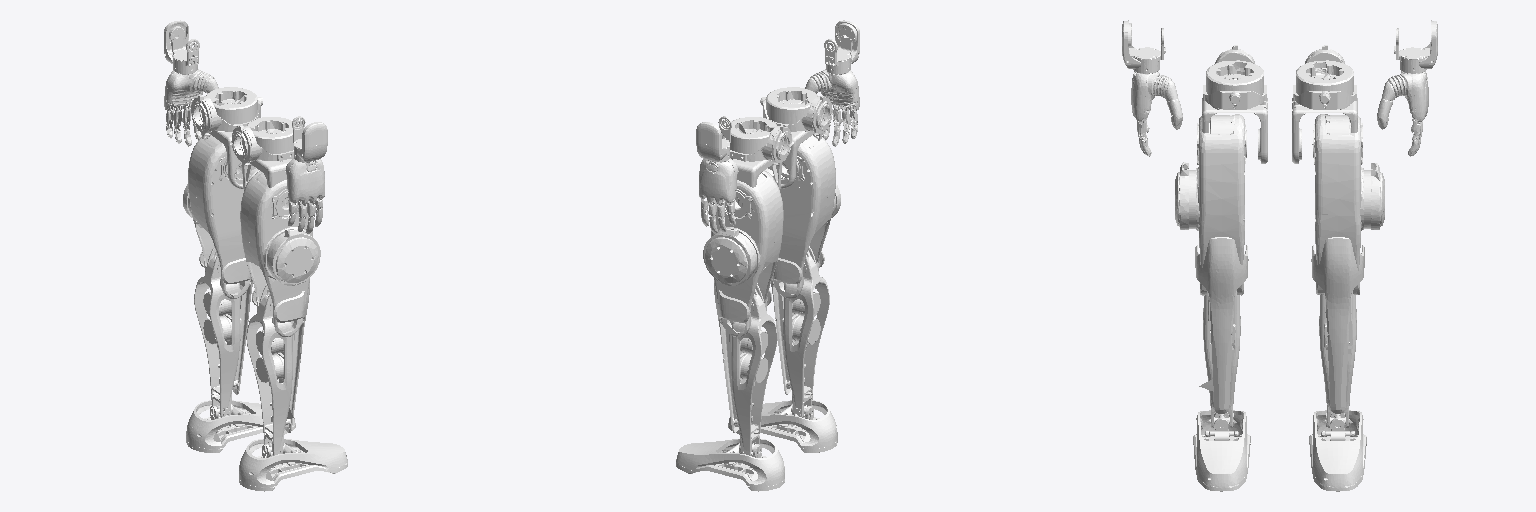
--- Render facts (derived) ---
Views: 3 orthographic renders of the robot side by side, from view 1: azimuth 30°, elevation 25°; view 2: azimuth 150°, elevation 25°; view 3: azimuth 270°, elevation 25°.
Model biped_v3_full with 27 links and 26 joints (26 revolute), rooted at torso, posed all joints at 0.
Visible links, largest first — view 1: leg_r3_link, leg_r4_link, leg_l4_link, leg_l3_link, leg_r6_link, zarm_l6_link, zarm_r6_link, leg_l6_link, leg_l1_link, leg_r1_link, leg_r2_link, leg_l2_link; view 2: leg_l3_link, leg_l4_link, leg_r4_link, leg_r3_link, zarm_r6_link, leg_l6_link, zarm_l6_link, leg_r6_link, leg_r1_link, leg_l1_link, leg_l2_link, leg_r2_link; view 3: leg_r3_link, leg_l3_link, leg_r4_link, leg_l4_link, leg_l6_link, leg_r6_link, zarm_r6_link, zarm_l6_link, leg_l1_link, leg_r1_link, leg_r2_link, leg_l2_link.
Boxes of the visible links, bbox=[...] form: leg_r3_link: bbox=[240, 171, 320, 336]; leg_r4_link: bbox=[246, 283, 309, 455]; leg_l4_link: bbox=[194, 246, 252, 417]; leg_l3_link: bbox=[183, 135, 250, 298]; leg_r6_link: bbox=[239, 439, 347, 491]; zarm_l6_link: bbox=[164, 20, 218, 146]; zarm_r6_link: bbox=[286, 116, 327, 233]; leg_l6_link: bbox=[186, 400, 295, 452]; leg_l1_link: bbox=[191, 87, 262, 133]; leg_r1_link: bbox=[232, 117, 297, 163]; leg_r2_link: bbox=[242, 159, 297, 216]; leg_l2_link: bbox=[201, 131, 242, 188]; leg_l3_link: bbox=[703, 171, 783, 336]; leg_l4_link: bbox=[714, 283, 777, 455]; leg_r4_link: bbox=[771, 246, 829, 417]; leg_r3_link: bbox=[773, 135, 840, 298]; zarm_r6_link: bbox=[805, 20, 859, 146]; leg_l6_link: bbox=[676, 439, 784, 491]; zarm_l6_link: bbox=[696, 116, 737, 233]; leg_r6_link: bbox=[728, 400, 837, 452]; leg_r1_link: bbox=[760, 87, 832, 133]; leg_l1_link: bbox=[725, 117, 791, 163]; leg_l2_link: bbox=[726, 159, 781, 213]; leg_r2_link: bbox=[781, 131, 822, 188]; leg_r3_link: bbox=[1175, 114, 1246, 295]; leg_l3_link: bbox=[1312, 114, 1384, 294]; leg_r4_link: bbox=[1195, 237, 1248, 427]; leg_l4_link: bbox=[1311, 237, 1364, 427]; leg_l6_link: bbox=[1309, 410, 1366, 491]; leg_r6_link: bbox=[1193, 410, 1250, 491]; zarm_r6_link: bbox=[1122, 20, 1182, 156]; zarm_l6_link: bbox=[1377, 20, 1437, 156]; leg_l1_link: bbox=[1293, 45, 1356, 109]; leg_r1_link: bbox=[1203, 45, 1266, 109]; leg_r2_link: bbox=[1202, 98, 1267, 163]; leg_l2_link: bbox=[1292, 98, 1357, 163].
Bounding box of the posed robot: 0.2541 × 0.6121 × 0.9176 m (x, y, z).
14 mesh visuals loaded from 27 distinct referenced files (14 binary STL); not drawn: 13 (reference not matched to a file when rendering).

URDF robot description (biped_v3_full):
<?xml version="1.0" ?>
<!-- =================================================================================== -->
<!-- |    This document was autogenerated by xacro from [local-path]/workspace/kuavo-ros-control/src/humanoid-control/humanoid_interface_drake/models/biped_gen4.0/urdf/biped_v3_full.xacro | -->
<!-- |    EDITING THIS FILE BY HAND IS NOT RECOMMENDED                                 | -->
<!-- =================================================================================== -->
<robot name="biped_v3_full" xmlns:drake="https://drake.mit.edu">
  <link name="torso">
    <inertial>
      <origin xyz="-0.00505 0.0014 0.18077" rpy="0 0 0" />
      <mass value="24.1969" />
      <inertia ixx="0.28214" ixy="3e-05" ixz="0.01114" iyy="0.20534" iyz="0.00044" izz="0.13735" />
    </inertial>
    <visual>
      <origin rpy="0 0 0" xyz="0 0 0"/>
      <geometry>
        <mesh filename="../../meshes/base_link.STL"/>
      </geometry>
      <material name="">
        <color rgba="0.43137 0.45098 0.43137 1"/>
      </material>
    </visual>
    <!-- <collision>
      <origin xyz="0 0 0" rpy="0 0 0" />
      <geometry>
        <mesh filename="../../meshes/base_link.STL" />
      </geometry>
    </collision> -->
  </link>
  <link name="leg_l1_link">
    <inertial>
      <origin xyz="-0.00624961 -5.6e-06 -0.00874166" rpy="0 0 0" />
      <mass value="1.79206533" />
      <inertia ixx="0.00211603" ixy="7.6e-07" ixz="0.000107" iyy="0.00302948" iyz="4.73e-06" izz="0.00399385" />
    </inertial>
    <visual>
      <origin xyz="0 0 0" rpy="0 0 0" />
      <geometry>
        <mesh filename="../../meshes/l_leg_roll.STL" />
      </geometry>
      <material name="">
        <color rgba="1 1 1 1" />
      </material>
    </visual>
  </link>
  <joint name="leg_l1_joint" type="revolute">
    <origin xyz="-0.0025 0.087 -0.066" rpy="0 0 0" />
    <parent link="torso" />
    <child link="leg_l1_link" />
    <axis xyz="1 0 0" />
    <limit lower="-0.314159265358979" upper="0.663225115757845" effort="180.0" velocity="23.55" />
  </joint>
  <transmission type="SimpleTransmission">
    <joint name="leg_l1_joint" />
    <actuator name="leg_l1_joint_motor" />
  </transmission>
  <link name="leg_l2_link">
    <inertial>
      <origin xyz="4.471e-05 0.04985881 -0.11682314" rpy="0 0 0" />
      <mass value="1.67630577" />
      <inertia ixx="0.00548763" ixy="-2.73e-06" ixz="-9.2e-07" iyy="0.0041542" iyz="0.00050833" izz="0.00426092" />
    </inertial>
    <visual>
      <origin xyz="0 0 0" rpy="0 0 0" />
      <geometry>
        <mesh filename="../../meshes/l_leg_yaw.STL" />
      </geometry>
      <material name="">
        <color rgba="1 1 1 1" />
      </material>
    </visual>
  </link>
  <joint name="leg_l2_joint" type="revolute">
    <origin xyz="0 0 0" rpy="0 0 0" />
    <parent link="leg_l1_link" />
    <child link="leg_l2_link" />
    <axis xyz="0 0 1" />
    <limit lower="-1.0471975511966" upper="0.523598775598299" effort="100.0" velocity="41.3433333333333" />
  </joint>
  <transmission type="SimpleTransmission">
    <joint name="leg_l2_joint" />
    <actuator name="leg_l2_joint_motor" />
  </transmission>
  <link name="leg_l3_link">
    <inertial>
      <origin xyz="-0.00238348 -0.02309435 -0.06304956" rpy="0 0 0" />
      <mass value="2.46847" />
      <inertia ixx="0.02435272" ixy="4.518e-05" ixz="0.00123822" iyy="0.02479772" iyz="0.00261624" izz="0.00478829" />
    </inertial>
    <visual>
      <origin xyz="0 0 0" rpy="0 0 0" />
      <geometry>
        <mesh filename="../../meshes/l_leg_pitch.STL" />
      </geometry>
      <material name="">
        <color rgba="1 1 1 1" />
      </material>
    </visual>
  </link>
  <joint name="leg_l3_joint" type="revolute">
    <origin xyz="0 0.02545000000000 -0.1287" rpy="0 0 0" />
    <parent link="leg_l2_link" />
    <child link="leg_l3_link" />
    <axis xyz="0 1 0" />
    <limit lower="-1.83259571459405" upper="1.0471975511966" effort="100.0" velocity="41.3433333333333" />
  </joint>
  <transmission type="SimpleTransmission">
    <joint name="leg_l3_joint" />
    <actuator name="leg_l3_joint_motor" />
  </transmission>
  <link name="leg_l4_link">
    <inertial>
      <origin xyz="0.00304104 -4.1e-05 -0.12213928" rpy="0 0 0" />
      <mass value="1.86452506" />
      <inertia ixx="0.01537791" ixy="7.85e-06" ixz="-0.00010781" iyy="0.01559985" iyz="-0.00015323" izz="0.00123021" />
    </inertial>
    <visual>
      <origin xyz="0 0 0" rpy="0 0 0" />
      <geometry>
        <mesh filename="../../meshes/l_knee.STL" />
      </geometry>
      <material name="">
        <color rgba="1 1 1 1" />
      </material>
    </visual>
  </link>
  <joint name="leg_l4_joint" type="revolute">
    <origin xyz="-0.010390161952608 0 -0.249783995753446" rpy="0 0 0" />
    <parent link="leg_l3_link" />
    <child link="leg_l4_link" />
    <axis xyz="0 1 0" />
    <limit lower="0.0" upper="2.18166156499291" effort="100.0" velocity="41.3433333333333" />
  </joint>
  <transmission type="SimpleTransmission">
    <joint name="leg_l4_joint" />
    <actuator name="leg_l4_joint_motor" />
  </transmission>
  <link name="leg_l5_link">
    <inertial>
      <origin xyz="0.0 0.0 0.0" rpy="0 0 0" />
      <mass value="0.06923929" />
      <inertia ixx="6.66e-06" ixy="0.0" ixz="0.0" iyy="6.66e-06" iyz="0.0" izz="1.172e-05" />
    </inertial>
    <visual>
      <origin xyz="0 0 0" rpy="0 0 0" />
      <geometry>
        <mesh filename="../../meshes/l_foot_pitch.STL" />
      </geometry>
      <material name="">
        <color rgba="1 1 1 1" />
      </material>
    </visual>
  </link>
  <joint name="leg_l5_joint" type="revolute">
    <origin xyz="0 0 -0.346000000000004" rpy="0 0 0" />
    <parent link="leg_l4_link" />
    <child link="leg_l5_link" />
    <axis xyz="0 1 0" />
    <limit lower="-0.610865238198015" upper="0.523598775598299" effort="36.0" velocity="23.0266666666667" />
  </joint>
  <transmission type="SimpleTransmission">
    <joint name="leg_l5_joint" />
    <actuator name="leg_l5_joint_motor" />
  </transmission>
  <link name="leg_l6_link">
    <inertial>
      <origin xyz="-0.00987056 -7.58e-06 -0.03365514" rpy="0 0 0" />
      <mass value="0.58358325" />
      <inertia ixx="0.0006342" ixy="1.4e-07" ixz="0.00031564" iyy="0.00227317" iyz="-2e-08" izz="0.00239382" />
    </inertial>
    <visual>
      <origin xyz="0 0 0" rpy="0 0 0" />
      <geometry>
        <mesh filename="../../meshes/l_foot_roll.STL" />
      </geometry>
      <material name="">
        <color rgba="1 1 1 1" />
      </material>
    </visual>
  </link>
  <joint name="leg_l6_joint" type="revolute">
    <origin xyz="0 0 0" rpy="0 0 0" />
    <parent link="leg_l5_link" />
    <child link="leg_l6_link" />
    <axis xyz="1 0 0" />
    <limit lower="-0.349065850398866" upper="0.349065850398866" effort="36.0" velocity="23.0266666666667" />
  </joint>
  <transmission type="SimpleTransmission">
    <joint name="leg_l6_joint" />
    <actuator name="leg_l6_joint_motor" />
  </transmission>
  <!-- sssssssss -->
  <frame link="leg_l6_link" name="l_foot_sole" xyz="0.0205085 -0.0 -0.0465"/>
  <frame link="leg_l6_link" name="l_foot_toe" xyz="0.142507 -0.0 -0.0465"/>
  <frame link="leg_l6_link" name="l_foot_heel" xyz="-0.10149 -0.0 -0.0465"/>
  <link name="leg_r1_link">
    <inertial>
      <origin xyz="-0.00624961 5.65e-06 -0.00874165" rpy="0 0 0" />
      <mass value="1.79206572" />
      <inertia ixx="0.00211603" ixy="-7.6e-07" ixz="0.000107" iyy="0.00302948" iyz="-4.73e-06" izz="0.00399385" />
    </inertial>
    <visual>
      <origin xyz="0 0 0" rpy="0 0 0" />
      <geometry>
        <mesh filename="../../meshes/r_leg_roll.STL" />
      </geometry>
      <material name="">
        <color rgba="1 1 1 1" />
      </material>
    </visual>
  </link>
  <joint name="leg_r1_joint" type="revolute">
    <origin xyz="-0.0025 -0.087 -0.066" rpy="0 0 0" />
    <parent link="torso" />
    <child link="leg_r1_link" />
    <axis xyz="1 0 0" />
    <limit lower="-0.663225115757845" upper="0.314159265358979" effort="180.0" velocity="23.55" />
  </joint>
  <transmission type="SimpleTransmission">
    <joint name="leg_r1_joint" />
    <actuator name="leg_r1_joint_motor" />
  </transmission>
  <link name="leg_r2_link">
    <inertial>
      <origin xyz="4.471e-05 -0.04985878 -0.11682313" rpy="0 0 0" />
      <mass value="1.67630636" />
      <inertia ixx="0.00548764" ixy="2.73e-06" ixz="-9.2e-07" iyy="0.00415421" iyz="-0.00050832" izz="0.00426093" />
    </inertial>
    <visual>
      <origin xyz="0 0 0" rpy="0 0 0" />
      <geometry>
        <mesh filename="../../meshes/r_leg_yaw.STL" />
      </geometry>
      <material name="">
        <color rgba="1 1 1 1" />
      </material>
    </visual>
  </link>
  <joint name="leg_r2_joint" type="revolute">
    <origin xyz="0 0 0" rpy="0 0 0" />
    <parent link="leg_r1_link" />
    <child link="leg_r2_link" />
    <axis xyz="0 0 1" />
    <limit lower="-0.523598775598299" upper="1.0471975511966" effort="100.0" velocity="41.3433333333333" />
  </joint>
  <transmission type="SimpleTransmission">
    <joint name="leg_r2_joint" />
    <actuator name="leg_r2_joint_motor" />
  </transmission>
  <link name="leg_r3_link">
    <inertial>
      <origin xyz="-0.00238153 0.02309009 -0.06305853" rpy="0 0 0" />
      <mass value="2.46916674" />
      <inertia ixx="0.02435155" ixy="-4.518e-05" ixz="0.00123747" iyy="0.02479853" iyz="-0.00261573" izz="0.0047908" />
    </inertial>
    <visual>
      <origin xyz="0 0 0" rpy="0 0 0" />
      <geometry>
        <mesh filename="../../meshes/r_leg_pitch.STL" />
      </geometry>
      <material name="">
        <color rgba="1 1 1 1" />
      </material>
    </visual>
  </link>
  <joint name="leg_r3_joint" type="revolute">
    <origin xyz="0 -0.02545000000000 -0.1287" rpy="0 0 0" />
    <parent link="leg_r2_link" />
    <child link="leg_r3_link" />
    <axis xyz="0 1 0" />
    <limit lower="-1.83259571459405" upper="1.0471975511966" effort="100.0" velocity="41.3433333333333" />
  </joint>
  <transmission type="SimpleTransmission">
    <joint name="leg_r3_joint" />
    <actuator name="leg_r3_joint_motor" />
  </transmission>
  <link name="leg_r4_link">
    <inertial>
      <origin xyz="0.00304109 4.102e-05 -0.12213983" rpy="0 0 0" />
      <mass value="1.86454133" />
      <inertia ixx="0.01537809" ixy="-7.85e-06" ixz="-0.00010779" iyy="0.01560001" iyz="0.00015322" izz="0.00123022" />
    </inertial>
    <visual>
      <origin xyz="0 0 0" rpy="0 0 0" />
      <geometry>
        <mesh filename="../../meshes/r_knee.STL" />
      </geometry>
      <material name="">
        <color rgba="1 1 1 1" />
      </material>
    </visual>
  </link>
  <joint name="leg_r4_joint" type="revolute">
    <origin xyz="-0.0103901619526017 0 -0.249783995753447" rpy="0 0 0" />
    <parent link="leg_r3_link" />
    <child link="leg_r4_link" />
    <axis xyz="0 1 0" />
    <limit lower="0.0" upper="2.18166156499291" effort="100.0" velocity="41.3433333333333" />
  </joint>
  <transmission type="SimpleTransmission">
    <joint name="leg_r4_joint" />
    <actuator name="leg_r4_joint_motor" />
  </transmission>
  <link name="leg_r5_link">
    <inertial>
      <origin xyz="0.0 0.0 0.0" rpy="0 0 0" />
      <mass value="0.06923929" />
      <inertia ixx="6.66e-06" ixy="0.0" ixz="0.0" iyy="6.66e-06" iyz="0.0" izz="1.172e-05" />
    </inertial>
    <visual>
      <origin xyz="0 0 0" rpy="0 0 0" />
      <geometry>
        <mesh filename="../../meshes/r_foot_pitch.STL" />
      </geometry>
      <material name="">
        <color rgba="1 1 1 1" />
      </material>
    </visual>
  </link>
  <joint name="leg_r5_joint" type="revolute">
    <origin xyz="0 0 -0.346000000000011" rpy="0 0 0" />
    <parent link="leg_r4_link" />
    <child link="leg_r5_link" />
    <axis xyz="0 1 0" />
    <limit lower="-0.523598775598299" upper="0.523598775598299" effort="36.0" velocity="23.0266666666667" />
  </joint>
  <transmission type="SimpleTransmission">
    <joint name="leg_r5_joint" />
    <actuator name="leg_r5_joint_motor" />
  </transmission>
  <link name="leg_r6_link">
    <inertial>
      <origin xyz="-0.00987049 7.65e-06 -0.03365512" rpy="0 0 0" />
      <mass value="0.58358273" />
      <inertia ixx="0.0006342" ixy="-1.4e-07" ixz="0.00031564" iyy="0.00227317" iyz="2e-08" izz="0.00239382" />
    </inertial>
    <visual>
      <origin xyz="0 0 0" rpy="0 0 0" />
      <geometry>
        <mesh filename="../../meshes/r_foot_roll.STL" />
      </geometry>
      <material name="">
        <color rgba="1 1 1 1" />
      </material>
    </visual>
  </link>
  <joint name="leg_r6_joint" type="revolute">
    <origin xyz="0 0 0" rpy="0 0 0" />
    <parent link="leg_r5_link" />
    <child link="leg_r6_link" />
    <axis xyz="1 0 0" />
    <limit lower="-0.349065850398866" upper="0.349065850398866" effort="36.0" velocity="23.0266666666667" />
  </joint>
  <transmission type="SimpleTransmission">
    <joint name="leg_r6_joint" />
    <actuator name="leg_r6_joint_motor" />
  </transmission>
  <!-- sssssssss -->
  <frame link="leg_r6_link" name="r_foot_sole" xyz="0.0205085 -0.0 -0.0465"/>
  <frame link="leg_r6_link" name="r_foot_toe" xyz="0.142507 -0.0 -0.0465"/>
  <frame link="leg_r6_link" name="r_foot_heel" xyz="-0.10149 -0.0 -0.0465"/>
  <!-- =========================================================== Arms ================================================================= -->
  <link name="zarm_l1_link">
    <inertial>
      <origin xyz="0.008 -0.00158 0.0036" rpy="0 0 0" />
      <mass value="1.15" />
      <inertia ixx="0.0006" ixy="5e-05" ixz="1e-05" iyy="0.00048" iyz="-6e-05" izz="0.0007" />
    </inertial>
    <visual>
      <origin xyz="0 0 0" rpy="0 0 0" />
      <geometry>
        <mesh filename="../../meshes/l_arm_pitch.STL" />
      </geometry>
      <material name="">
        <color rgba="1 1 1 1" />
      </material>
    </visual>
  </link>
  <joint name="zarm_l1_joint" type="revolute">
    <origin xyz="-0.0175 0.25886 0.3245" rpy="0 0 0" />
    <parent link="torso" />
    <child link="zarm_l1_link" />
    <axis xyz="0 1 0" />
    <limit lower="-2.61799387799149" upper="0.523598775598299" effort="100.0" velocity="41.3433333333333" />
  </joint>
  <transmission type="SimpleTransmission">
    <joint name="zarm_l1_joint" />
    <actuator name="zarm_l1_joint_motor" />
  </transmission>
  <link name="zarm_l2_link">
    <inertial>
      <origin xyz="0.00144 0.02159 -0.0202" rpy="0 0 0" />
      <mass value="0.226" />
      <inertia ixx="0.0003" ixy="3e-05" ixz="1e-05" iyy="0.00061" iyz="5e-05" izz="0.00057" />
    </inertial>
    <visual>
      <origin xyz="0 0 0" rpy="0 0 0" />
      <geometry>
        <mesh filename="../../meshes/l_arm_roll.STL" />
      </geometry>
      <material name="">
        <color rgba="1 1 1 1" />
      </material>
    </visual>
  </link>
  <joint name="zarm_l2_joint" type="revolute">
    <origin xyz="0 0 0" rpy="0 0 0" />
    <parent link="zarm_l1_link" />
    <child link="zarm_l2_link" />
    <axis xyz="1 0 0" />
    <limit lower="-0.349065850398866" upper="2.0943951023932" effort="50.0" velocity="19.154" />
  </joint>
  <transmission type="SimpleTransmission">
    <joint name="zarm_l2_joint" />
    <actuator name="zarm_l2_joint_motor" />
  </transmission>
  <link name="zarm_l3_link">
    <inertial>
      <origin xyz="-0.00157 -3e-05 -0.13318" rpy="0 0 0" />
      <mass value="1.166" />
      <inertia ixx="0.00245" ixy="-1e-05" ixz="-1e-05" iyy="0.0022" iyz="0.0" izz="0.00112" />
    </inertial>
    <visual>
      <origin xyz="0 0 0" rpy="0 0 0" />
      <geometry>
        <mesh filename="../../meshes/l_arm_yaw.STL" />
      </geometry>
      <material name="">
        <color rgba="1 1 1 1" />
      </material>
    </visual>
  </link>
  <joint name="zarm_l3_joint" type="revolute">
    <origin xyz="0 0 0" rpy="0 0 0" />
    <parent link="zarm_l2_link" />
    <child link="zarm_l3_link" />
    <axis xyz="0 0 1" />
    <limit lower="-1.5707963267949" upper="1.5707963267949" effort="20.0" velocity="18.84" />
  </joint>
  <transmission type="SimpleTransmission">
    <joint name="zarm_l3_joint" />
    <actuator name="zarm_l3_joint_motor" />
  </transmission>
  <link name="zarm_l4_link">
    <inertial>
      <origin xyz="-4e-05 0.0098 -0.05283" rpy="0 0 0" />
      <mass value="0.575" />
      <inertia ixx="0.00098" ixy="0.0" ixz="0.0" iyy="0.00062" iyz="-0.00016" izz="0.00088" />
    </inertial>
    <visual>
      <origin xyz="0 0 0" rpy="0 0 0" />
      <geometry>
        <mesh filename="../../meshes/l_forearm.STL" />
      </geometry>
      <material name="">
        <color rgba="1 1 1 1" />
      </material>
    </visual>
  </link>
  <joint name="zarm_l4_joint" type="revolute">
    <origin xyz="0 0 -0.1646" rpy="0 0 0" />
    <parent link="zarm_l3_link" />
    <child link="zarm_l4_link" />
    <axis xyz="0 1 0" />
    <limit lower="-1.5707963267949" upper="0.0" effort="20.0" velocity="18.84" />
  </joint>
  <transmission type="SimpleTransmission">
    <joint name="zarm_l4_joint" />
    <actuator name="zarm_l4_joint_motor" />
  </transmission>
  <link name="zarm_l5_link">
    <inertial>
      <origin xyz="-0.00011 0.00421 -0.11168" rpy="0 0 0" />
      <mass value="0.46" />
      <inertia ixx="0.00077" ixy="0.0" ixz="0.0" iyy="0.0005" iyz="-4e-05" izz="0.00063" />
    </inertial>
    <visual>
      <origin xyz="0 0 0" rpy="0 0 0" />
      <geometry>
        <mesh filename="../../meshes/l_hand_yaw.STL" />
      </geometry>
      <material name="">
        <color rgba="1 1 1 1" />
      </material>
    </visual>
  </link>
  <joint name="zarm_l5_joint" type="revolute">
    <origin xyz="0 0 0" rpy="0 0 0" />
    <parent link="zarm_l4_link" />
    <child link="zarm_l5_link" />
    <axis xyz="0 0 1" />
    <limit lower="-1.5707963267949" upper="1.5707963267949" effort="6.0" velocity="21.666" />
  </joint>
  <transmission type="SimpleTransmission">
    <joint name="zarm_l5_joint" />
    <actuator name="zarm_l5_joint_motor" />
  </transmission>
  <link name="zarm_l6_link">
    <inertial>
      <origin xyz="0.00253 0.00382 -0.05356" rpy="0 0 0" />
      <mass value="0.35" />
      <inertia ixx="0.00023" ixy="0.0" ixz="0.0" iyy="0.00024" iyz="-4e-05" izz="0.00019" />
    </inertial>
    <visual>
      <origin xyz="0 0 0" rpy="0 0 0" />
      <geometry>
        <mesh filename="../../meshes/l_hand_pitch.STL" />
      </geometry>
      <material name="">
        <color rgba="1 1 1 1" />
      </material>
    </visual>
  </link>
  <joint name="zarm_l6_joint" type="revolute">
    <origin xyz="0 0 -0.132050000125748" rpy="0 0 0" />
    <parent link="zarm_l5_link" />
    <child link="zarm_l6_link" />
    <axis xyz="0 1 0" />
    <limit lower="-1.5707963267949" upper="1.5707963267949" effort="6.0" velocity="21.666" />
  </joint>
  <transmission type="SimpleTransmission">
    <joint name="zarm_l6_joint" />
    <actuator name="zarm_l6_joint_motor" />
  </transmission>
  <link name="zarm_l7_link">
    <inertial>
      <origin xyz="0.00267 0.00748 -0.07162" rpy="0 0 0" />
      <mass value="0.81" />
      <inertia ixx="0.00117" ixy="2e-05" ixz="0.0" iyy="0.00128" iyz="-2e-05" izz="0.00036" />
    </inertial>
    <visual>
      <origin xyz="0 0 0" rpy="0 0 0" />
      <geometry>
        <mesh filename="../../meshes/l_hand_roll.STL" />
      </geometry>
      <material name="">
        <color rgba="1 1 1 1" />
      </material>
    </visual>
  </link>
  <joint name="zarm_l7_joint" type="revolute">
    <origin xyz="0 0 -0.0589999999999999" rpy="0 0 0" />
    <parent link="zarm_l6_link" />
    <child link="zarm_l7_link" />
    <axis xyz="1 0 0" />
    <limit lower="-1.5707963267949" upper="1.5707963267949" effort="6.0" velocity="21.666" />
  </joint>
  <transmission type="SimpleTransmission">
    <joint name="zarm_l7_joint" />
    <actuator name="zarm_l7_joint_motor" />
  </transmission>
  <!-- right arm -->
  <link name="zarm_r1_link">
    <inertial>
      <origin xyz="0.008 0.00158 -0.0036" rpy="0 0 0" />
      <mass value="1.15" />
      <inertia ixx="0.0006" ixy="-5e-05" ixz="-1e-05" iyy="0.00048" iyz="-6e-05" izz="0.0007" />
    </inertial>
    <visual>
      <origin xyz="0 0 0" rpy="0 0 0" />
      <geometry>
        <mesh filename="../../meshes/r_arm_pitch.STL" />
      </geometry>
      <material name="">
        <color rgba="1 1 1 1" />
      </material>
    </visual>
  </link>
  <joint name="zarm_r1_joint" type="revolute">
    <origin xyz="-0.0175 -0.25886 0.3245" rpy="0 0 0" />
    <parent link="torso" />
    <child link="zarm_r1_link" />
    <axis xyz="0 1 0" />
    <limit lower="-2.61799387799149" upper="0.523598775598299" effort="100.0" velocity="41.3433333333333" />
  </joint>
  <transmission type="SimpleTransmission">
    <joint name="zarm_r1_joint" />
    <actuator name="zarm_r1_joint_motor" />
  </transmission>
  <link name="zarm_r2_link">
    <inertial>
      <origin xyz="0.00144 -0.02159 -0.02021" rpy="0 0 0" />
      <mass value="0.226" />
      <inertia ixx="0.0003" ixy="-3e-05" ixz="1e-05" iyy="0.00061" iyz="-5e-05" izz="0.00057" />
    </inertial>
    <visual>
      <origin xyz="0 0 0" rpy="0 0 0" />
      <geometry>
        <mesh filename="../../meshes/r_arm_roll.STL" />
      </geometry>
      <material name="">
        <color rgba="1 1 1 1" />
      </material>
    </visual>
  </link>
  <joint name="zarm_r2_joint" type="revolute">
    <origin xyz="0 0 0" rpy="0 0 0" />
    <parent link="zarm_r1_link" />
    <child link="zarm_r2_link" />
    <axis xyz="1 0 0" />
    <limit lower="-2.0943951023932" upper="0.349065850398866" effort="50.0" velocity="19.154" />
  </joint>
  <transmission type="SimpleTransmission">
    <joint name="zarm_r2_joint" />
    <actuator name="zarm_r2_joint_motor" />
  </transmission>
  <link name="zarm_r3_link">
    <inertial>
      <origin xyz="-0.00157 3e-05 -0.13318" rpy="0 0 0" />
      <mass value="1.166" />
      <inertia ixx="0.00245" ixy="1e-05" ixz="-1e-05" iyy="0.0022" iyz="0.0" izz="0.00112" />
    </inertial>
    <visual>
      <origin xyz="0 0 0" rpy="0 0 0" />
      <geometry>
        <mesh filename="../../meshes/r_arm_yaw.STL" />
      </geometry>
      <material name="">
        <color rgba="1 1 1 1" />
      </material>
    </visual>
  </link>
  <joint name="zarm_r3_joint" type="revolute">
    <origin xyz="0 0 0" rpy="0 0 0" />
    <parent link="zarm_r2_link" />
    <child link="zarm_r3_link" />
    <axis xyz="0 0 1" />
    <limit lower="-1.5707963267949" upper="1.5707963267949" effort="20.0" velocity="18.84" />
  </joint>
  <transmission type="SimpleTransmission">
    <joint name="zarm_r3_joint" />
    <actuator name="zarm_r3_joint_motor" />
  </transmission>
  <link name="zarm_r4_link">
    <inertial>
      <origin xyz="-4e-05 -0.0098 -0.05283" rpy="0 0 0" />
      <mass value="0.575" />
      <inertia ixx="0.00098" ixy="0.0" ixz="0.0" iyy="0.00062" iyz="0.00016" izz="0.00088" />
    </inertial>
    <visual>
      <origin xyz="0 0 0" rpy="0 0 0" />
      <geometry>
        <mesh filename="../../meshes/r_forearm.STL" />
      </geometry>
      <material name="">
        <color rgba="1 1 1 1" />
      </material>
    </visual>
  </link>
  <joint name="zarm_r4_joint" type="revolute">
    <origin xyz="0 0 -0.1646" rpy="0 0 0" />
    <parent link="zarm_r3_link" />
    <child link="zarm_r4_link" />
    <axis xyz="0 1 0" />
    <limit lower="-1.5707963267949" upper="0.0" effort="20.0" velocity="18.84" />
  </joint>
  <transmission type="SimpleTransmission">
    <joint name="zarm_r4_joint" />
    <actuator name="zarm_r4_joint_motor" />
  </transmission>
  <link name="zarm_r5_link">
    <inertial>
      <origin xyz="-0.00011 -0.00421 -0.11168" rpy="0 0 0" />
      <mass value="0.46" />
      <inertia ixx="0.00077" ixy="0.0" ixz="0.0" iyy="0.0005" iyz="4e-05" izz="0.00063" />
    </inertial>
    <visual>
      <origin xyz="0 0 0" rpy="0 0 0" />
      <geometry>
        <mesh filename="../../meshes/r_hand_yaw.STL" />
      </geometry>
      <material name="">
        <color rgba="1 1 1 1" />
      </material>
    </visual>
  </link>
  <joint name="zarm_r5_joint" type="revolute">
    <origin xyz="0 0 0" rpy="0 0 0" />
    <parent link="zarm_r4_link" />
    <child link="zarm_r5_link" />
    <axis xyz="0 0 1" />
    <limit lower="-1.5707963267949" upper="1.5707963267949" effort="6.0" velocity="21.666" />
  </joint>
  <transmission type="SimpleTransmission">
    <joint name="zarm_r5_joint" />
    <actuator name="zarm_r5_joint_motor" />
  </transmission>
  <link name="zarm_r6_link">
    <inertial>
      <origin xyz="0.00253 -0.00382 -0.05356" rpy="0 0 0" />
      <mass value="0.35" />
      <inertia ixx="0.00023" ixy="0.0" ixz="0.0" iyy="0.00024" iyz="4e-05" izz="0.00019" />
    </inertial>
    <visual>
      <origin xyz="0 0 0" rpy="0 0 0" />
      <geometry>
        <mesh filename="../../meshes/r_hand_pitch.STL" />
      </geometry>
      <material name="">
        <color rgba="1 1 1 1" />
      </material>
    </visual>
  </link>
  <joint name="zarm_r6_joint" type="revolute">
    <origin xyz="0 0 -0.132050000240097" rpy="0 0 0" />
    <parent link="zarm_r5_link" />
    <child link="zarm_r6_link" />
    <axis xyz="0 1 0" />
    <limit lower="-1.5707963267949" upper="1.5707963267949" effort="6.0" velocity="21.666" />
  </joint>
  <transmission type="SimpleTransmission">
    <joint name="zarm_r6_joint" />
    <actuator name="zarm_r6_joint_motor" />
  </transmission>
  <link name="zarm_r7_link">
    <inertial>
      <origin xyz="0.00267 -0.00748 -0.07162" rpy="0 0 0" />
      <mass value="0.81" />
      <inertia ixx="0.00098" ixy="-1e-05" ixz="1e-05" iyy="0.00104" iyz="1e-05" izz="0.00027" />
    </inertial>
    <visual>
      <origin xyz="0 0 0" rpy="0 0 0" />
      <geometry>
        <mesh filename="../../meshes/r_hand_roll.STL" />
      </geometry>
      <material name="">
        <color rgba="1 1 1 1" />
      </material>
    </visual>
  </link>
  <joint name="zarm_r7_joint" type="revolute">
    <origin xyz="0 0 -0.0589999999999999" rpy="0 0 0" />
    <parent link="zarm_r6_link" />
    <child link="zarm_r7_link" />
    <axis xyz="1 0 0" />
    <limit lower="-1.5707963267949" upper="1.5707963267949" effort="6.0" velocity="21.666" />
  </joint>
  <transmission type="SimpleTransmission">
    <joint name="zarm_r7_joint" />
    <actuator name="zarm_r7_joint_motor" />
  </transmission>
  <!-- end frame -->
  <!-- <frame link="l_hand_pitch" name="l_hand_sole" xyz="0 0 -0.1" /> -->
  <!-- end frame -->
  <!-- <frame link="r_hand_pitch" name="r_hand_sole" xyz="0 0 -0.1" /> -->
</robot>
